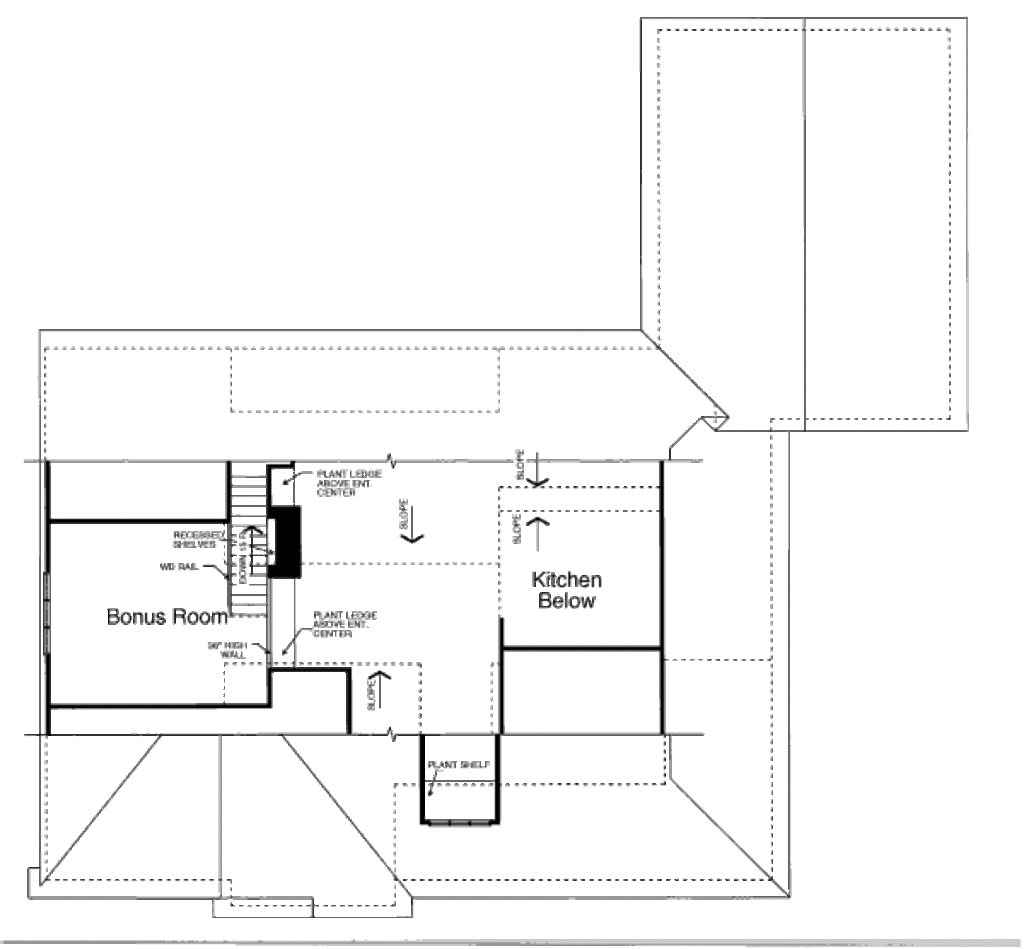stairs: (212, 457, 269, 642)
window: (30, 570, 62, 683), (424, 808, 492, 835)
